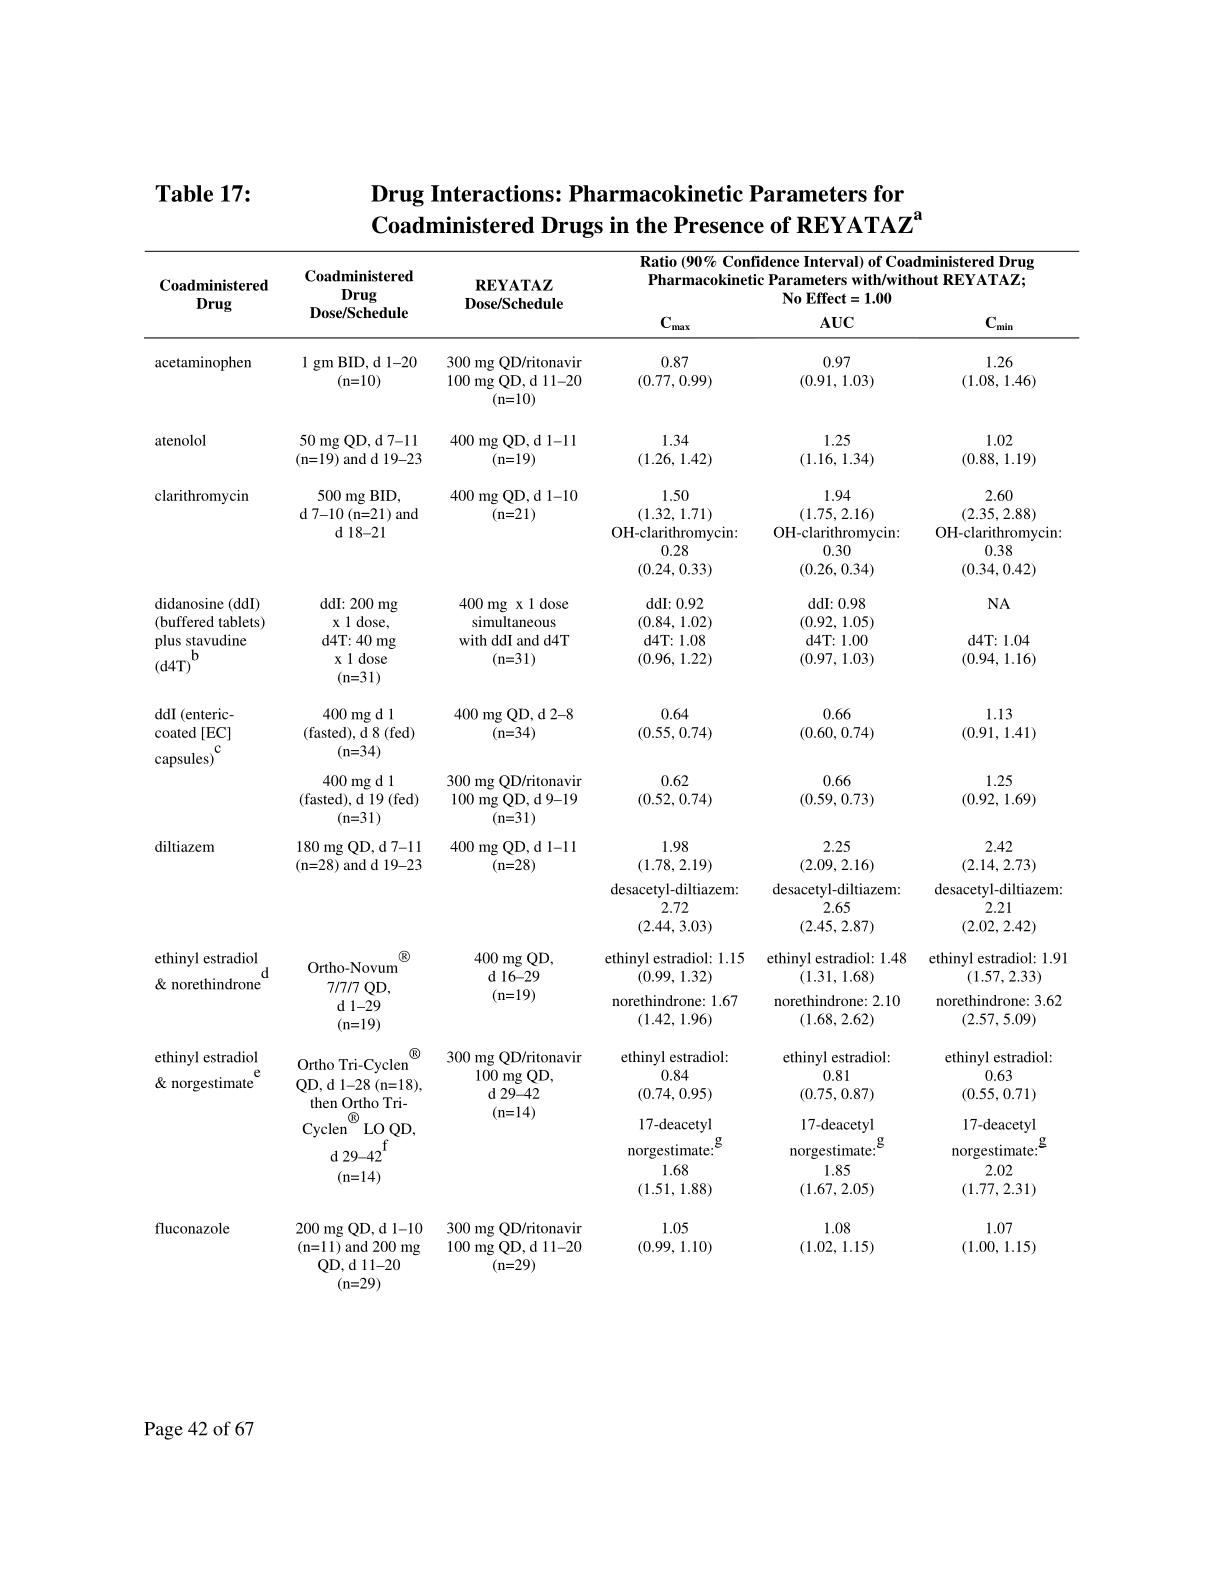partial_lined_merged_cells: (141, 249, 1080, 1295)
